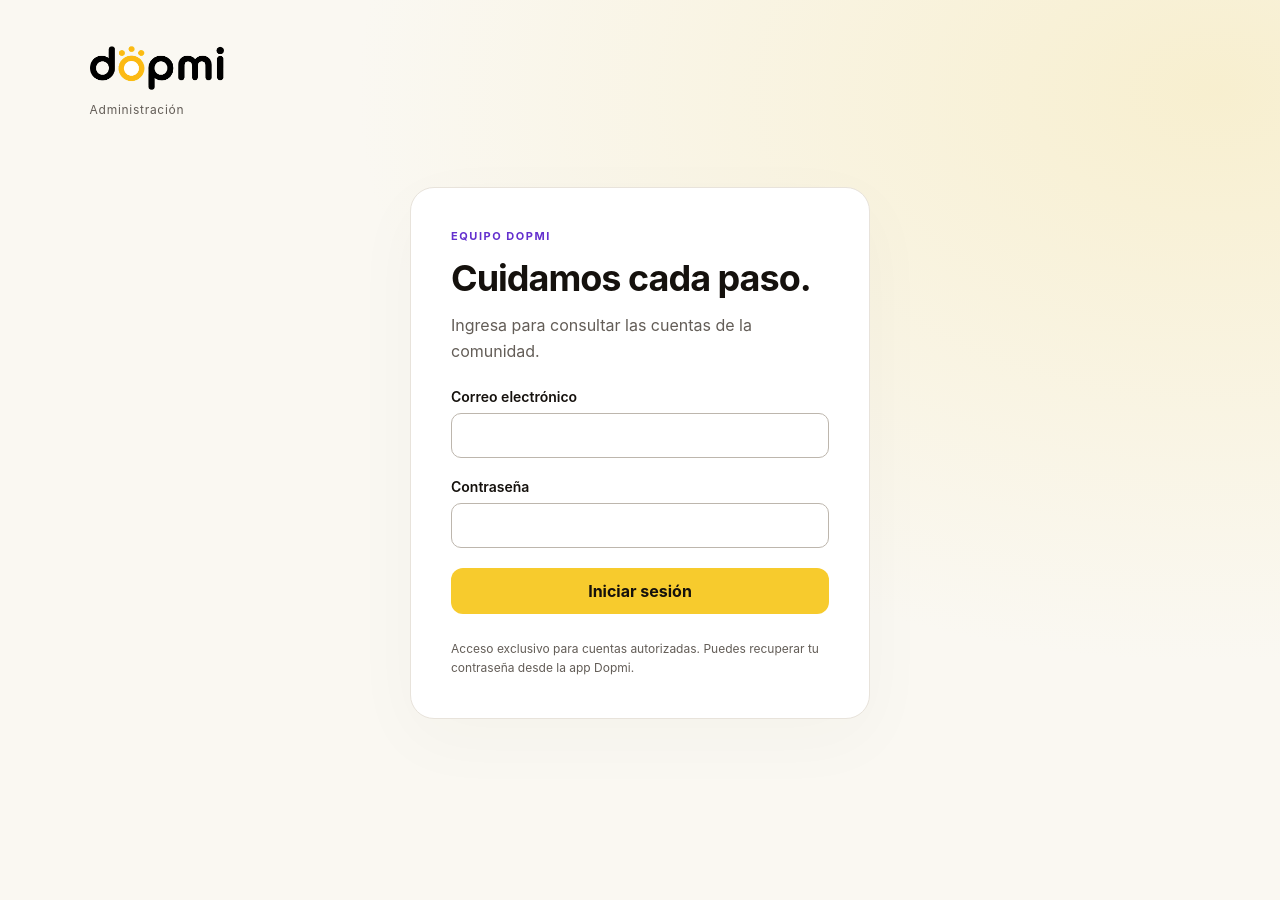
Test: administración de usuarios › shows a real sign-in failure without exposing internal errors
Type "ana@example.test" into the field labelled "Correo electrónico".
click(640, 436); type("ana@example.test")  # box [451,413,829,458]
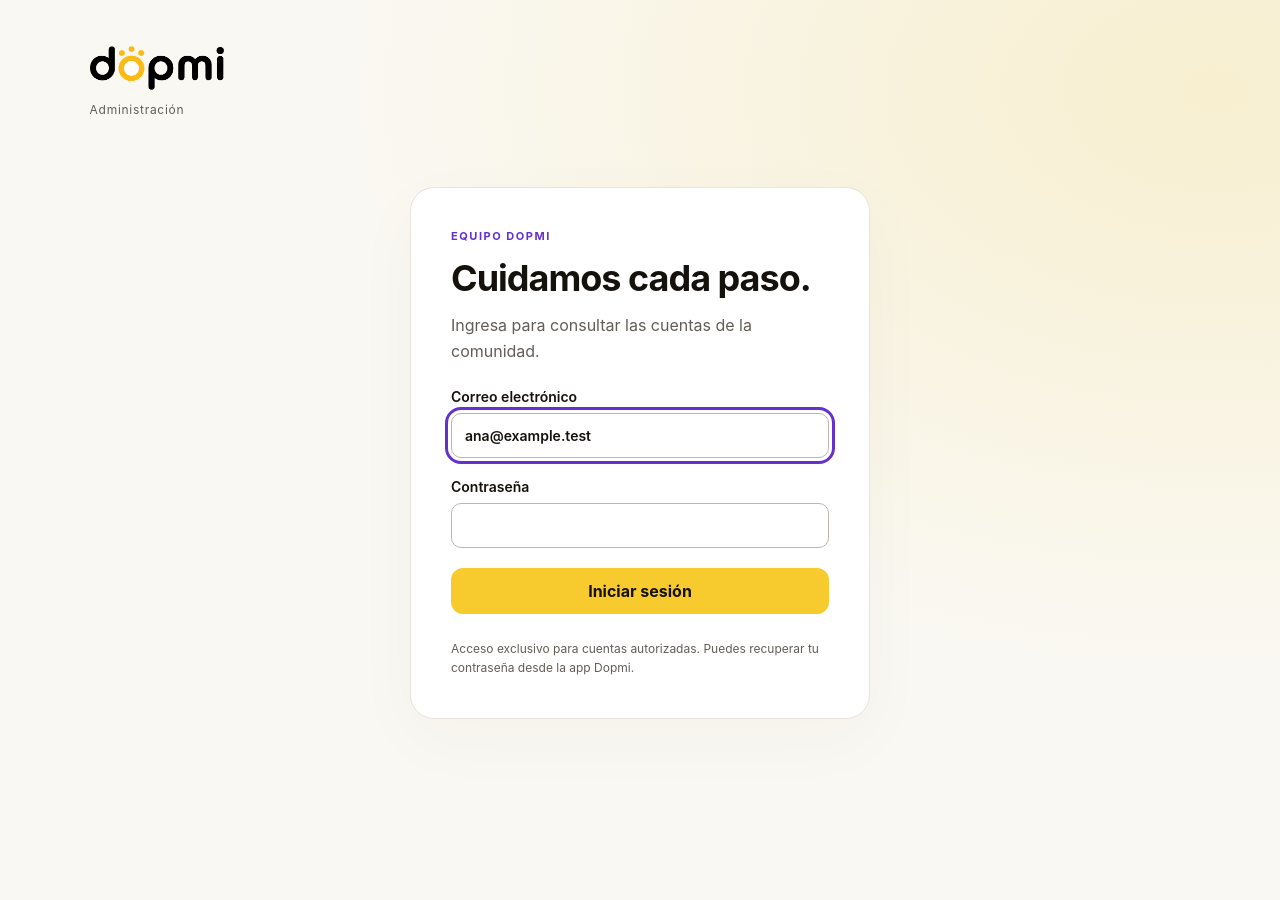
Type "incorrecta" into the password field labelled "Contraseña".
click(640, 526); type("incorrecta")  # box [451,503,829,548]
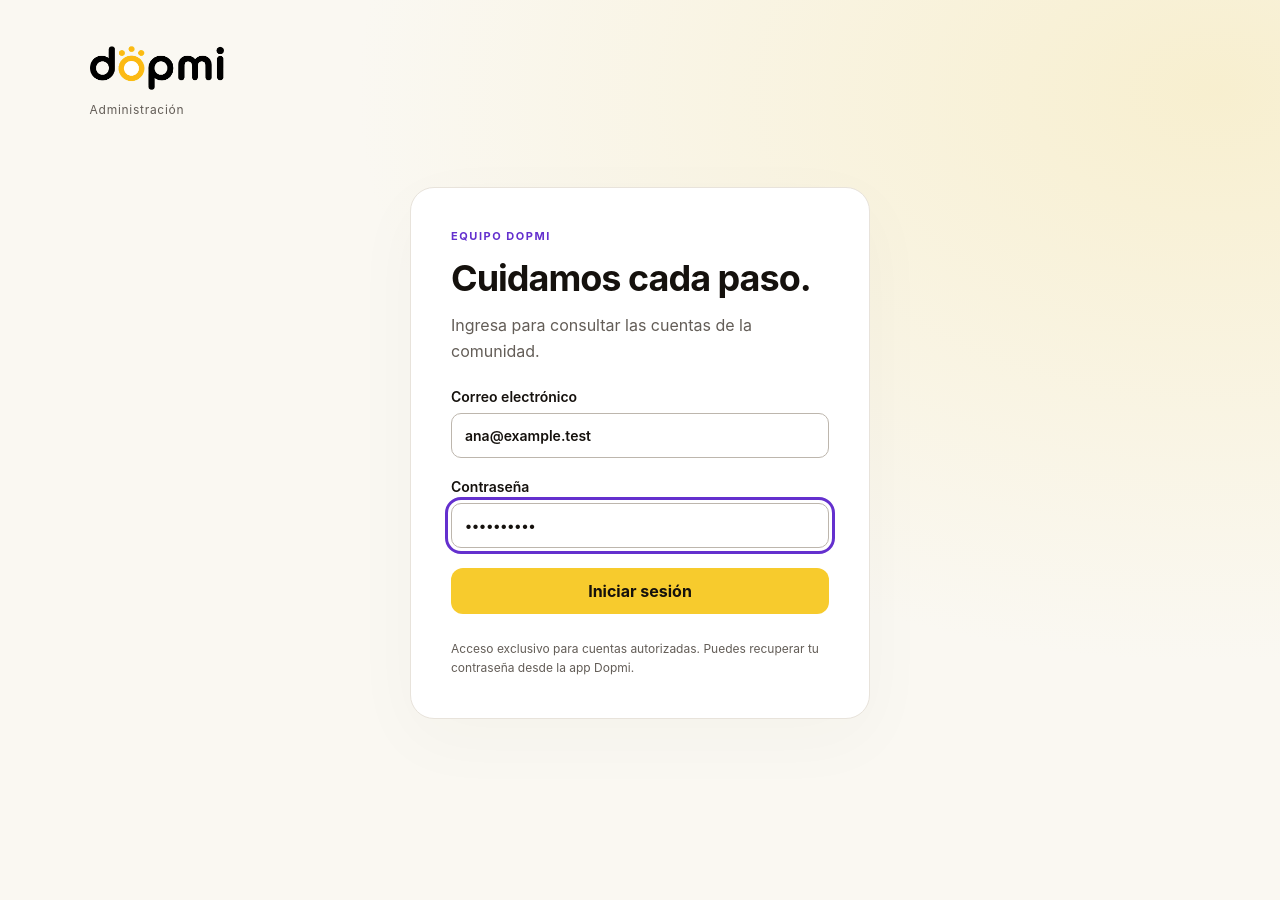
Click the button "Iniciar sesión".
click(640, 591)  # box [451,568,829,614]
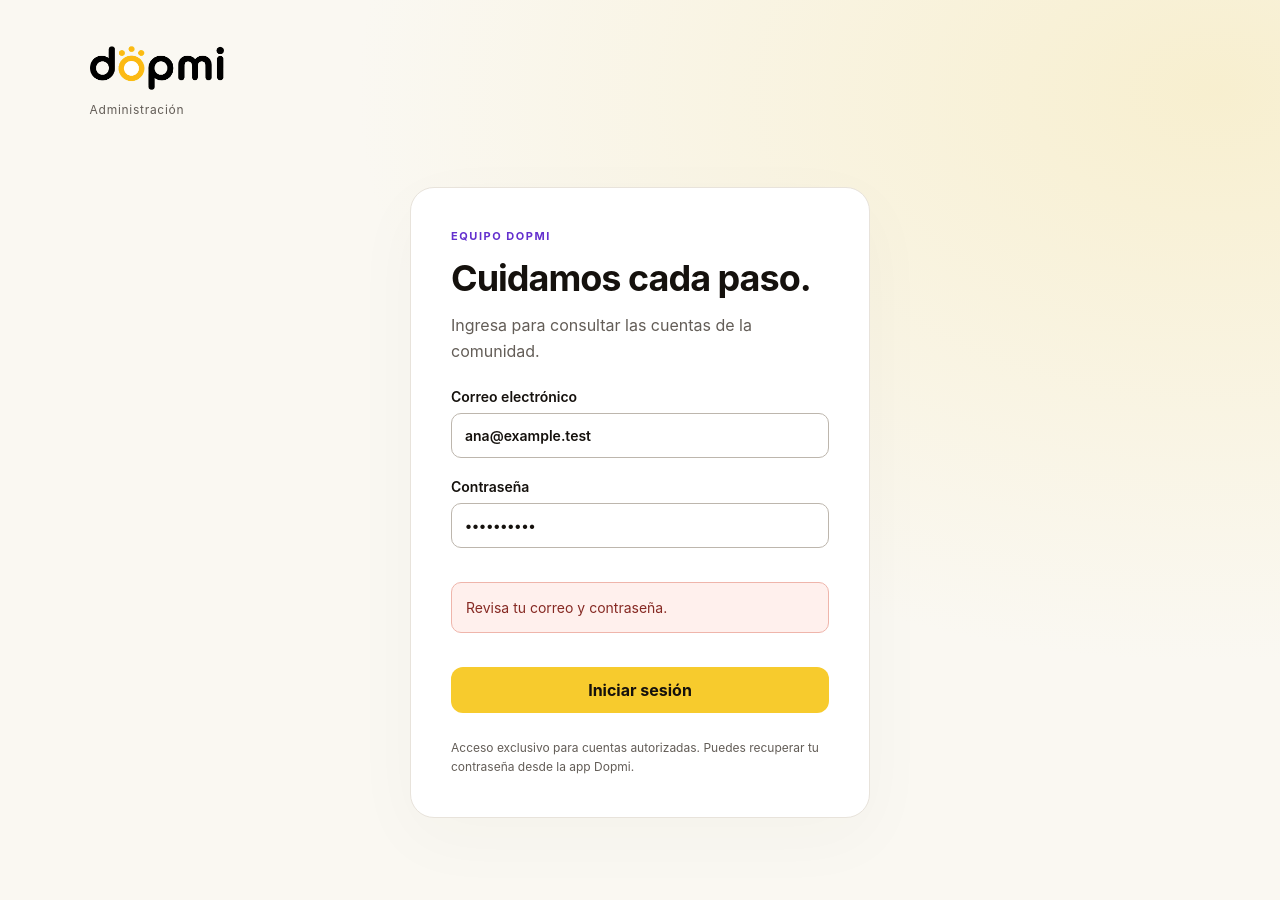
Expected: the text "Revisa tu correo y contraseña." is shown, [451,582,829,633]
